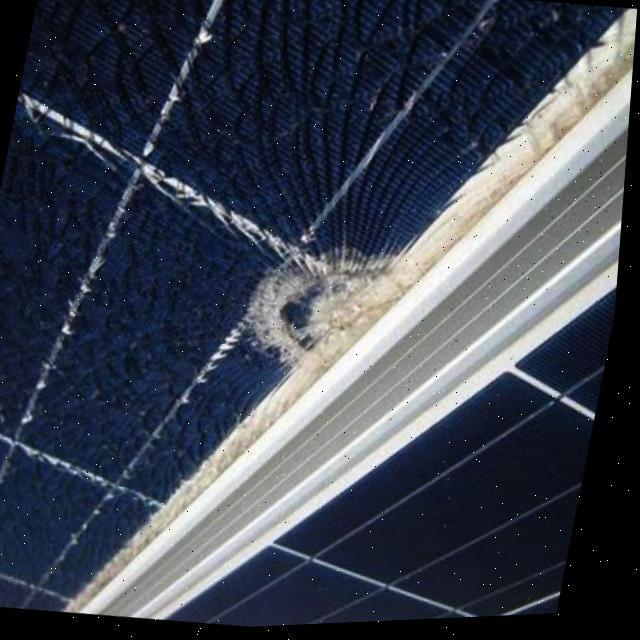Structural Damage: (228, 200, 418, 382)
